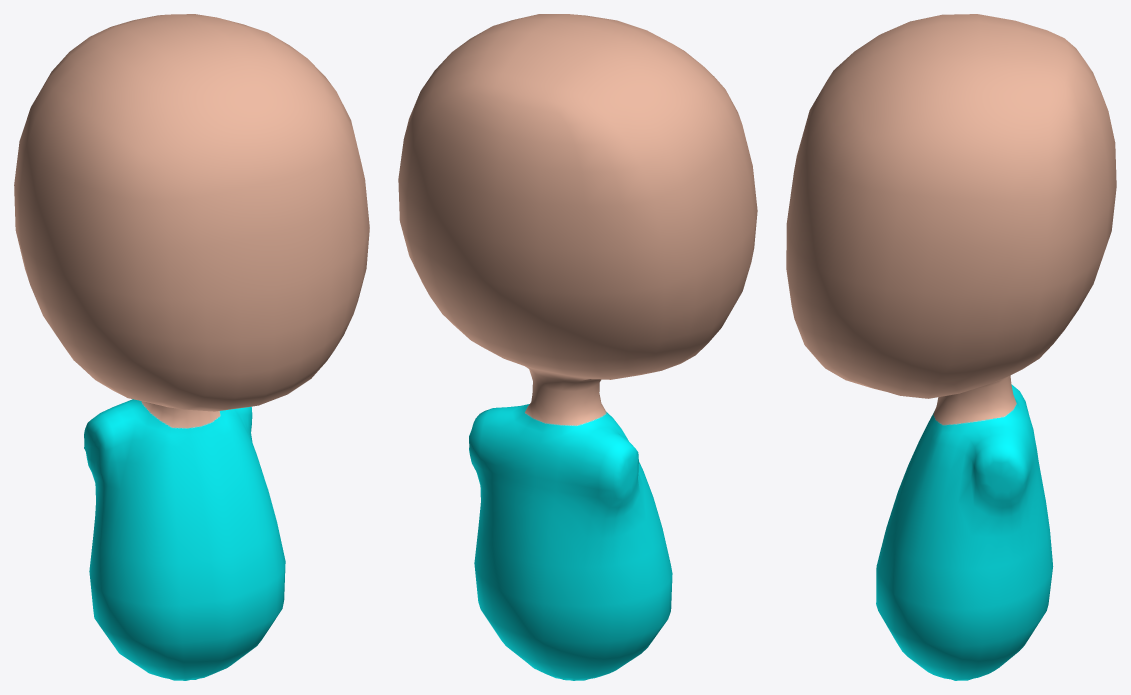
Rendered from body.FBX.
The picture shows the model from 3 angles, left to right: view 1: azimuth 30°, elevation 25°; view 2: azimuth 150°, elevation 25°; view 3: azimuth 270°, elevation 25°; orthographic projection.
Parts seen in each view (by area): view 1: body; view 2: body; view 3: body.
Boxes of the visible parts, x1,y1,x2,y2 form: body: [14, 14, 369, 680]; body: [398, 14, 757, 680]; body: [786, 14, 1116, 680].
Size of the model in its own units: 5.42 by 11.01 by 5.17.
1 material, 1 textured.
